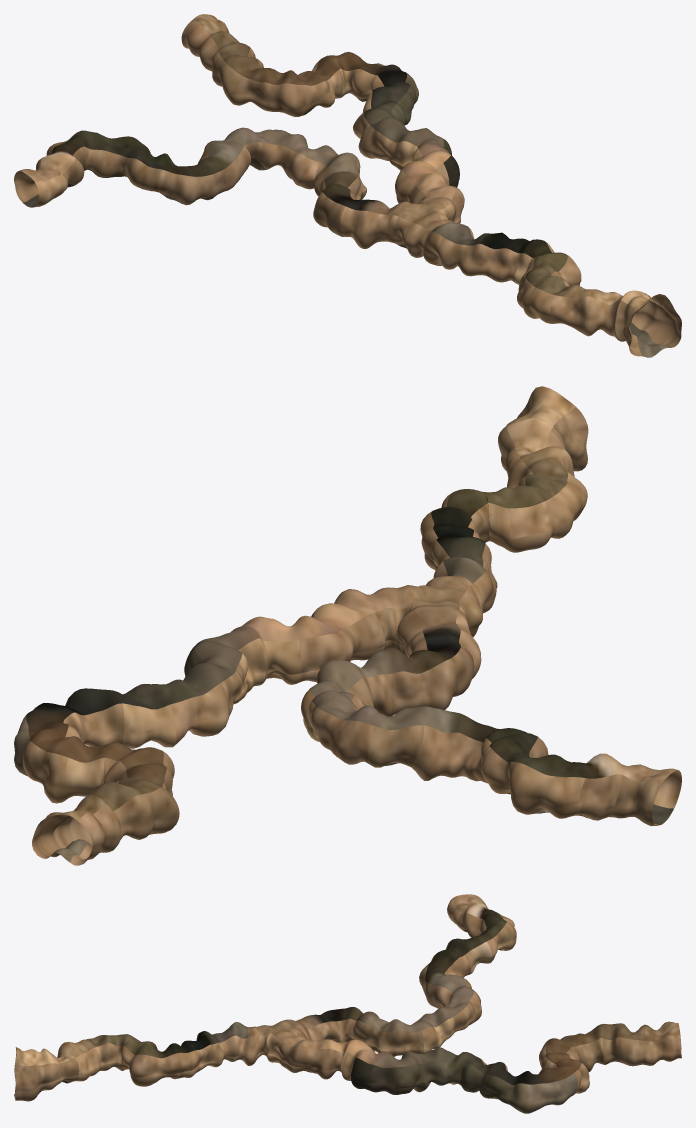
File: CuevaTutorial.fbx
3 renders of one model, top to bottom at view 1: azimuth 30°, elevation 25°; view 2: azimuth 150°, elevation 25°; view 3: azimuth 270°, elevation 25°, orthographic. The views are drawn at different scales.
Parts seen in each view (by area): view 1: Cube; view 2: Cube; view 3: Cube.
Boxes of the visible parts, x1=… form: Cube: x1=14, y1=14, x2=681, y2=357; Cube: x1=14, y1=386, x2=681, y2=865; Cube: x1=14, y1=894, x2=681, y2=1113.
Size of the model in its own units: 4575 by 807 by 7473.
Materials: 1 (1 with a texture image).
